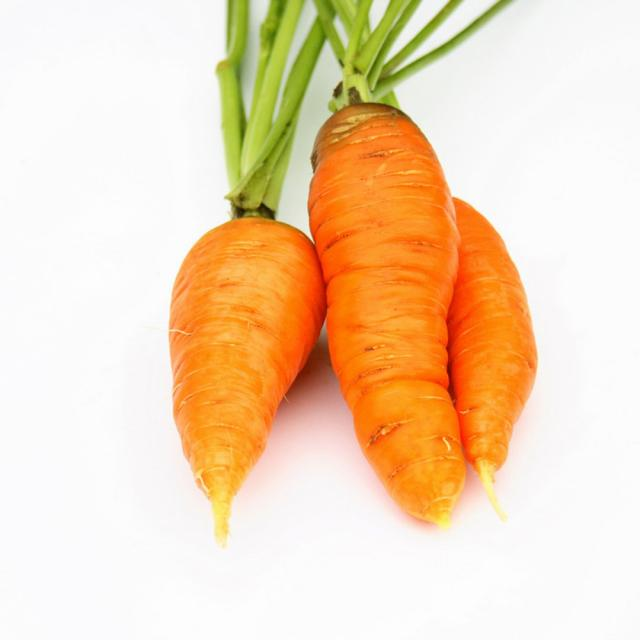Carrot: (328, 104, 466, 522)
